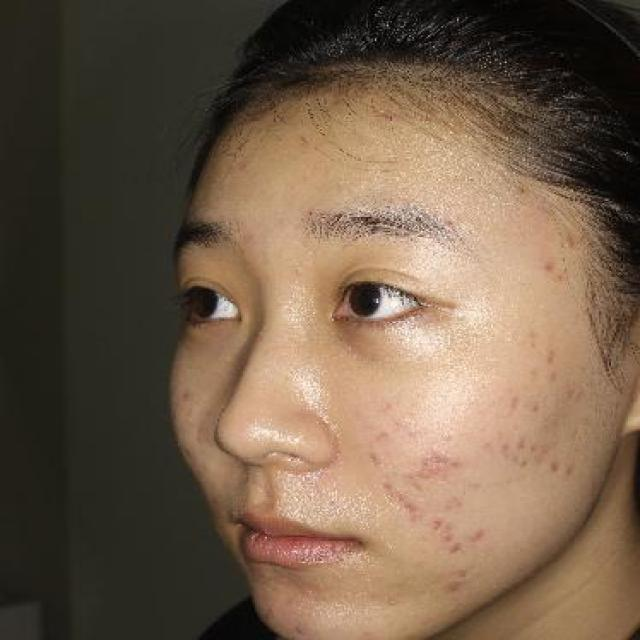dark spot: (393, 488, 428, 520), (464, 522, 494, 548), (454, 559, 479, 586), (543, 343, 568, 369), (537, 257, 563, 280), (443, 542, 471, 562), (502, 391, 526, 414), (437, 578, 468, 594), (447, 456, 469, 478), (548, 371, 568, 394), (552, 268, 572, 288), (416, 451, 438, 469), (515, 455, 534, 474), (563, 463, 582, 482), (431, 449, 452, 465), (510, 434, 532, 449), (505, 448, 527, 463), (376, 475, 396, 491), (527, 438, 543, 457), (530, 397, 546, 415), (539, 441, 561, 454), (440, 532, 462, 545), (426, 515, 443, 531), (442, 217, 466, 228), (498, 440, 512, 454), (548, 458, 561, 471)
